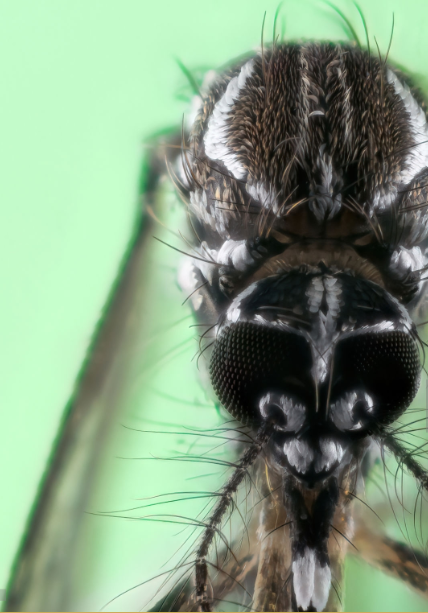dengue_mosquito: (87, 1, 427, 612)
